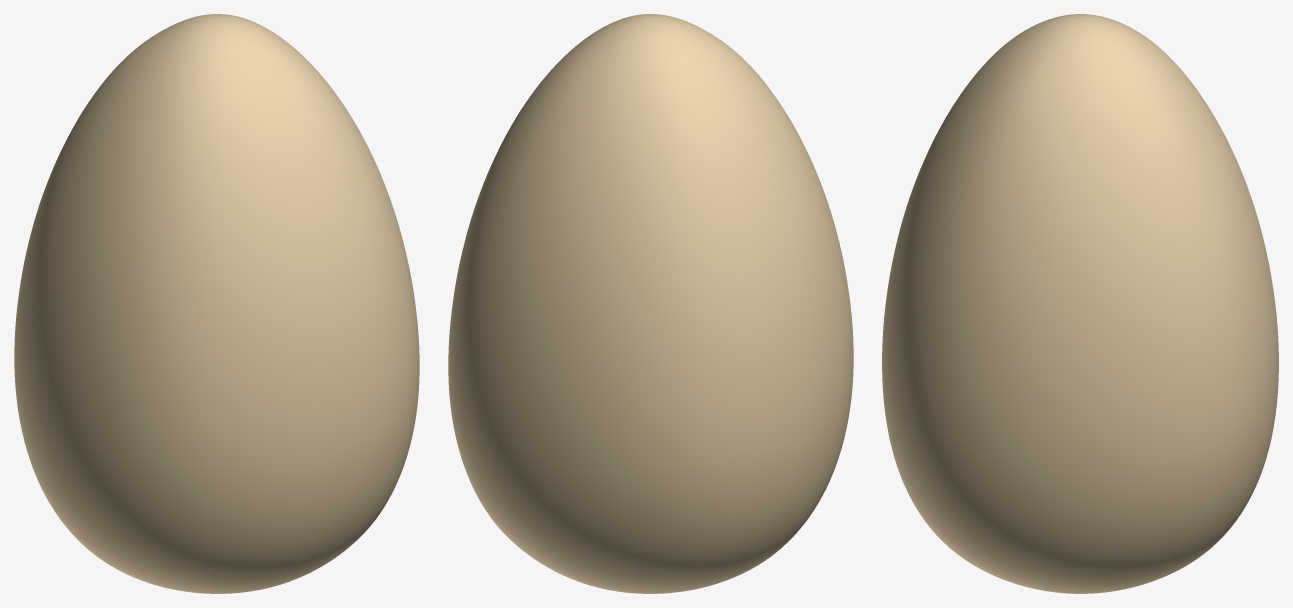
File: oeuf.fbx
3 views of the same model, side by side, from view 1: azimuth 30°, elevation 25°; view 2: azimuth 150°, elevation 25°; view 3: azimuth 270°, elevation 25° (orthographic).
Parts seen in each view (by area): view 1: Cube; view 2: Cube; view 3: Cube.
Boxes of the visible parts, bbox=[...] form: Cube: bbox=[14, 14, 419, 593]; Cube: bbox=[448, 14, 853, 593]; Cube: bbox=[882, 14, 1278, 593].
Size of the model in its own units: 349 by 534 by 349.
